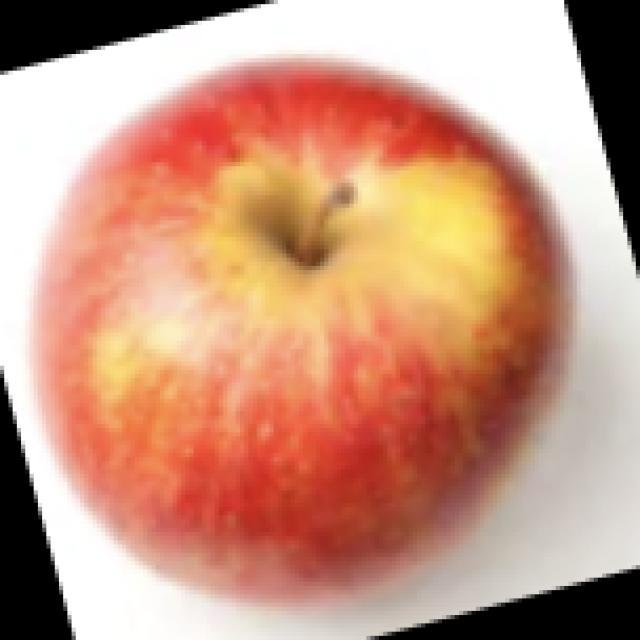Fresh Apple: (76, 72, 542, 613)
